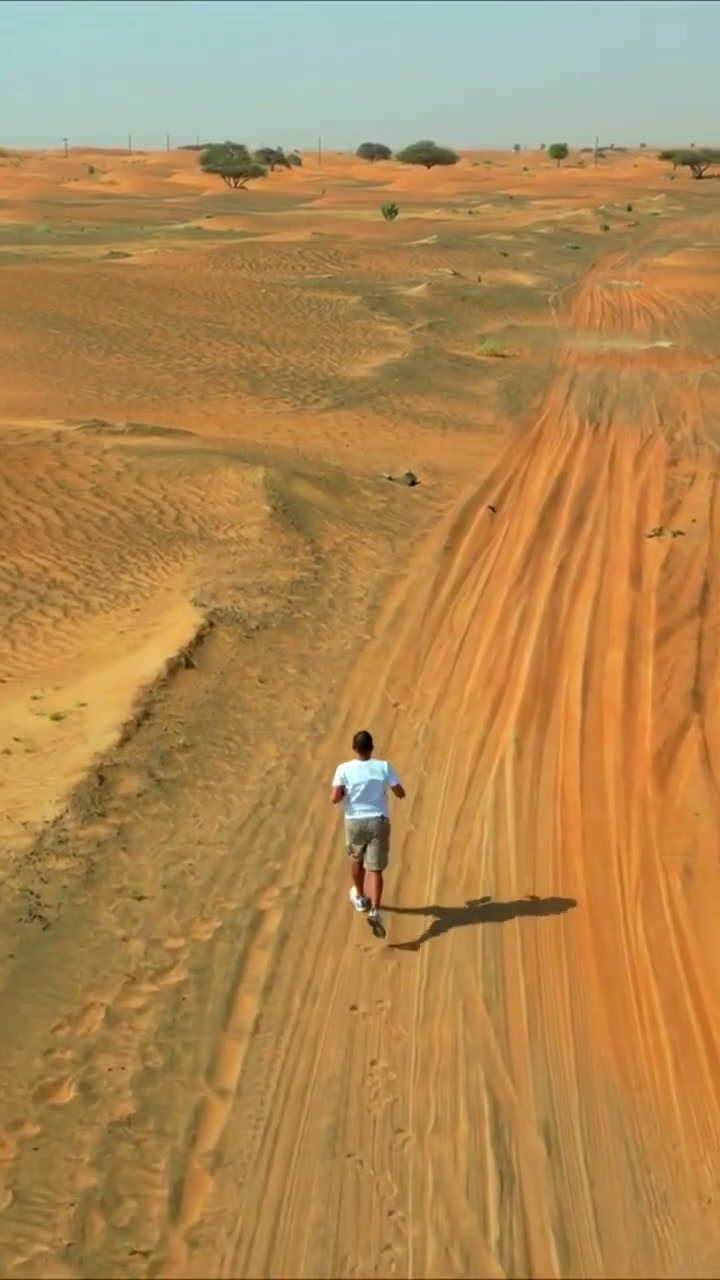human: (331, 730, 405, 936)
vehicle_track: (461, 343, 719, 1237)
